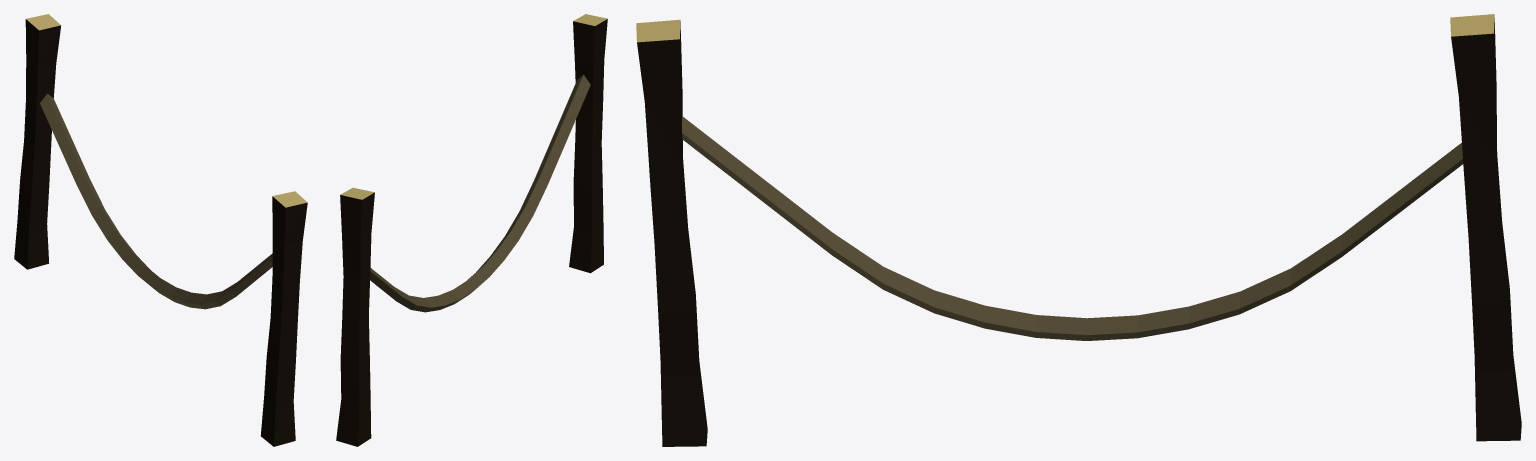
The model's file is fence1.fbx.
The picture shows the model from 3 angles, left to right: view 1: azimuth 30°, elevation 25°; view 2: azimuth 150°, elevation 25°; view 3: azimuth 270°, elevation 25°; orthographic projection. The views are drawn at different scales.
Parts seen in each view (by area): view 1: fence1_LOD0; view 2: fence1_LOD0; view 3: fence1_LOD0.
Boxes of the visible parts, box(x1,y1,x2,y2) form: fence1_LOD0: box(14, 14, 307, 446); fence1_LOD0: box(336, 14, 607, 446); fence1_LOD0: box(636, 14, 1521, 446).
Size of what is drawn, in the model's own units: 13.62 by 103 by 200.
